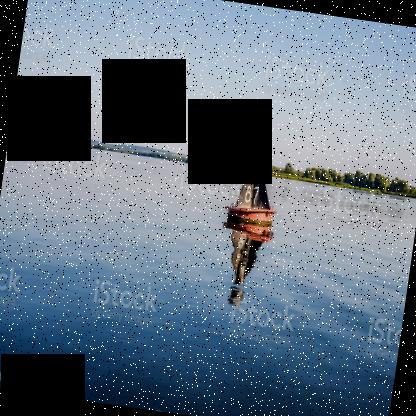Buoy: (220, 134, 287, 241)
